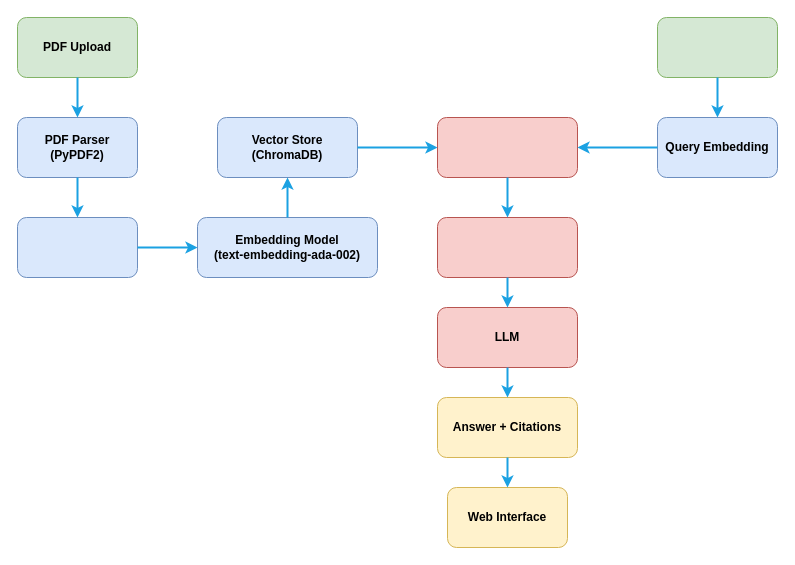
The diagram is 795 pixels wide and 565 high, and some of its shapes have lost their labels. The centre of each missing label's shape, as x and y in pixels:
"RAG System (Context Assembly)" belongs at point 507,247.
"Retrieval (Similarity Search)" belongs at point 507,147.
"Text Chunks (500-1000 chars)" belongs at point 77,247.
"User Query" belongs at point 717,47.
